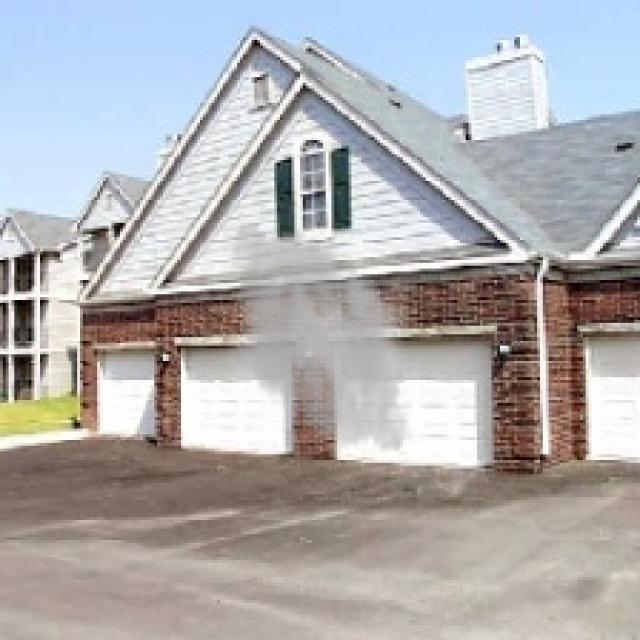Smoke: (211, 214, 423, 463)
